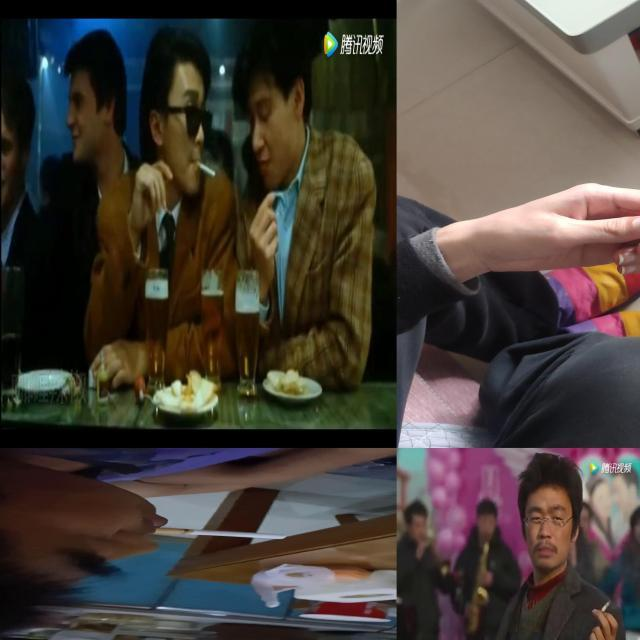smoke: (153, 528, 290, 540), (196, 160, 217, 178), (596, 596, 610, 620)
